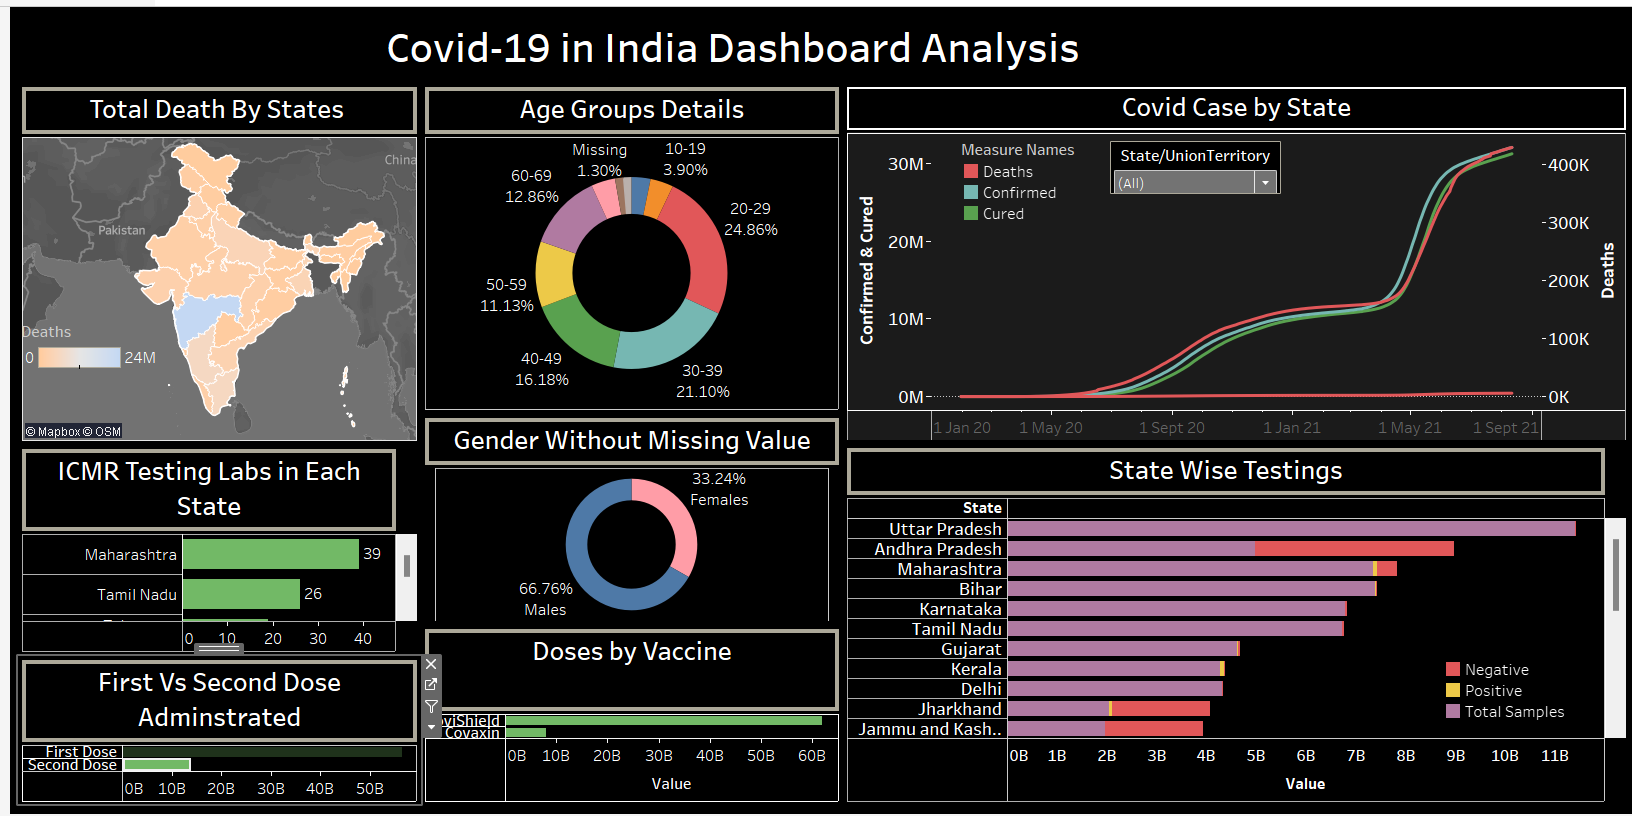

The dashboard page shown, as its layout file describes it:
{"tool":"tableau","page":{"name":"Dashboard 1","canvas":[1000,1000],"units":"permille","ordinal":0},"visuals":[{"type":"worksheet","title":"Sheet 8","mark":"Automatic","box":[4.9,9.9,990.2,84.2]},{"type":"worksheet","title":"Total Death By States ","mark":"Automatic","box":[4.9,94.1,247.5,448.5]},{"type":"worksheet","title":"Age Group Details","mark":"Pie","rows":["Calculation_121878711008088067","Calculation_121878711008161797"],"box":[252.4,94.1,259.3,410.2]},{"type":"worksheet","title":"Covid Case by State ","mark":"Automatic","rows":["Deaths"],"cols":["Date"],"box":[511.7,94.1,483.4,448]},{"type":"legend","title":"Covid Case by State ","param":"[federated.088gk4j08umx7i1g21n6p0wfh677].[:Measure Names]","box":[584.1,163.6,86,105.3]},{"type":"filter","title":"Covid Case by State ","param":"[federated.088gk4j08umx7i1g21n6p0wfh677].[none:State/UnionTerritory:nk]","box":[675.7,166.1,105,65.7]},{"type":"legend","title":"Total Death By States ","param":"[federated.088gk4j08umx7i1g21n6p0wfh677].[sum:Deaths:qk]","box":[6.8,389.1,86,109]},{"type":"worksheet","title":"Sheet 9","mark":"Pie","rows":["Calculation_857091350362763265","Calculation_857091350362775555"],"box":[252.4,504.3,259.3,262.1]},{"type":"worksheet","title":"State Wise Testings","mark":"Automatic","rows":["State"],"box":[511.7,542.1,483.4,448]},{"type":"worksheet","title":"Sheet 7","mark":"Automatic","rows":["state"],"cols":["lab"],"box":[4.9,542.6,247.5,261.6]},{"type":"worksheet","title":"Dose Adminstered by Vaccine","mark":"Automatic","box":[252.4,766.4,259.3,223.7]},{"type":"worksheet","title":"Sheet 3","mark":"Automatic","box":[4.9,804.3,247.5,185.8]},{"type":"legend","title":"State Wise Testings","param":"[federated.19fy1xr0gzuz1513q7aog11e4am7].[:Measure Names]","box":[880.2,807.9,86,78.1]}]}

Visuals, with their boxes on the dashboard's canvas, which has no fixed pixel size, in thousandths of its width and height (x1, y1, x2, y2). These are canvas units, not pixel positions in the 1632x816 screenshot, which may show the page scaled, cropped or inside an application window:
"Sheet 8" worksheet: region(5, 10, 995, 94)
"Total Death By States " worksheet: region(5, 94, 252, 543)
"Age Group Details" worksheet (Pie marks): region(252, 94, 512, 504)
"Covid Case by State " worksheet: region(512, 94, 995, 542)
"Covid Case by State " legend: region(584, 164, 670, 269)
"Covid Case by State " filter: region(676, 166, 781, 232)
"Total Death By States " legend: region(7, 389, 93, 498)
"Sheet 9" worksheet (Pie marks): region(252, 504, 512, 766)
"State Wise Testings" worksheet: region(512, 542, 995, 990)
"Sheet 7" worksheet: region(5, 543, 252, 804)
"Dose Adminstered by Vaccine" worksheet: region(252, 766, 512, 990)
"Sheet 3" worksheet: region(5, 804, 252, 990)
"State Wise Testings" legend: region(880, 808, 966, 886)
